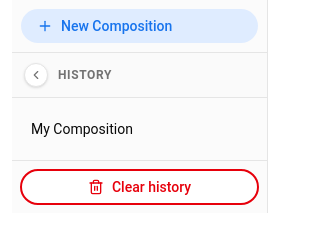
Scenario: double-clicking an entry's name enters inline edit mode and commits a rename that persists
This screenshot has width=332, height=230.
Step 1. Double-click the button "My Composition" → (108, 129), box [31,119,186,139]
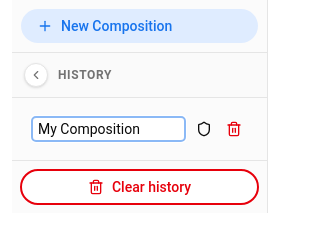
Step 2. Replace the text in the field showing "My Composition" with "Renamed Composition" → (108, 129), box [31,116,186,142]
Then press Enter
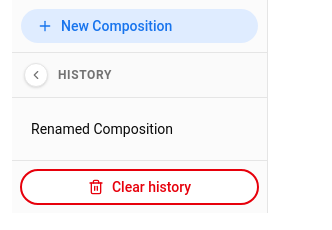
expect the button "Renamed Composition" is shown: met, box [31,119,186,139]
